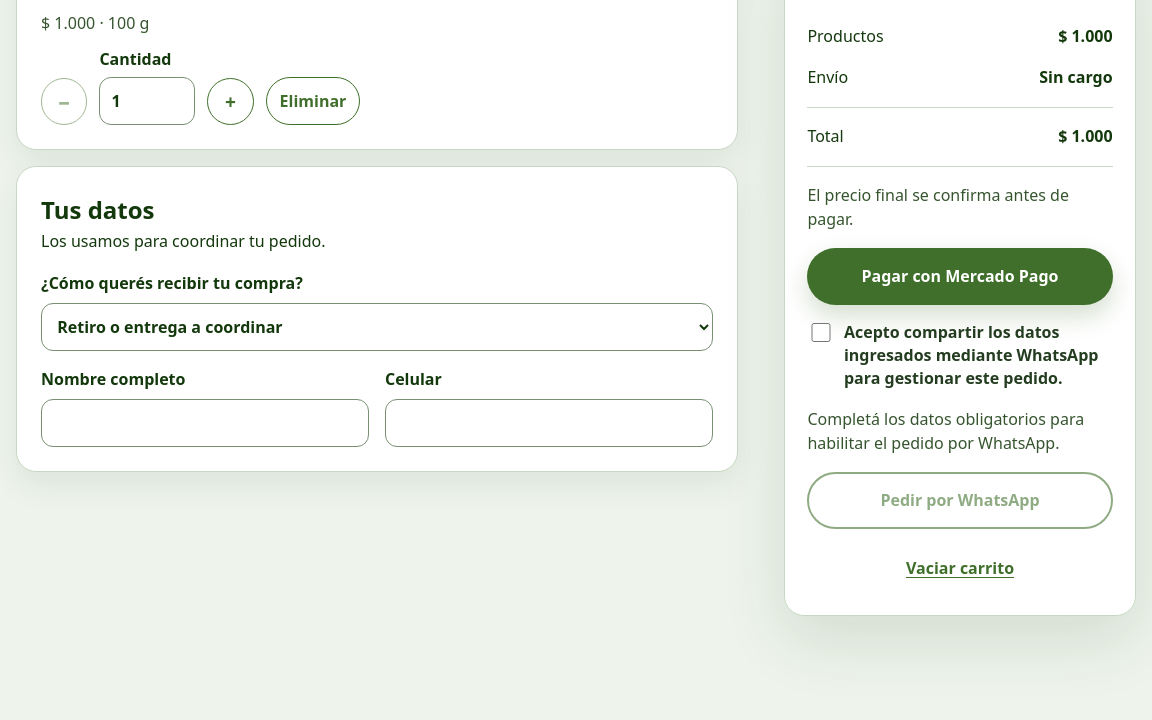
Test case: CartPage › no prepara un pago con una cantidad visible inválida ni usa silenciosamente la anterior
(page scrolled)
Type "Cliente de prueba" into the field labelled "Nombre completo" at {"x": 205, "y": 423}, box [41, 399, 369, 447]
Type "5491100000000" into the field labelled "Celular" at {"x": 549, "y": 423}, box [385, 399, 713, 447]
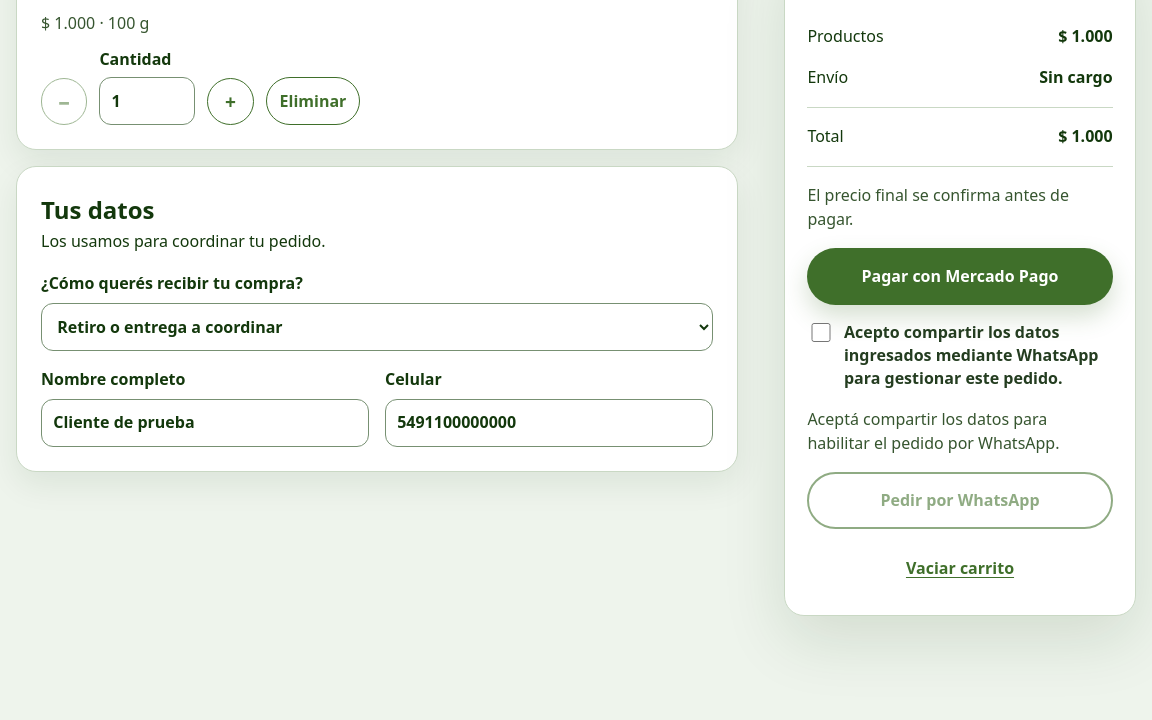
Click the checkbox labelled "Acepto compartir" at {"x": 821, "y": 332}, box [811, 323, 831, 342]
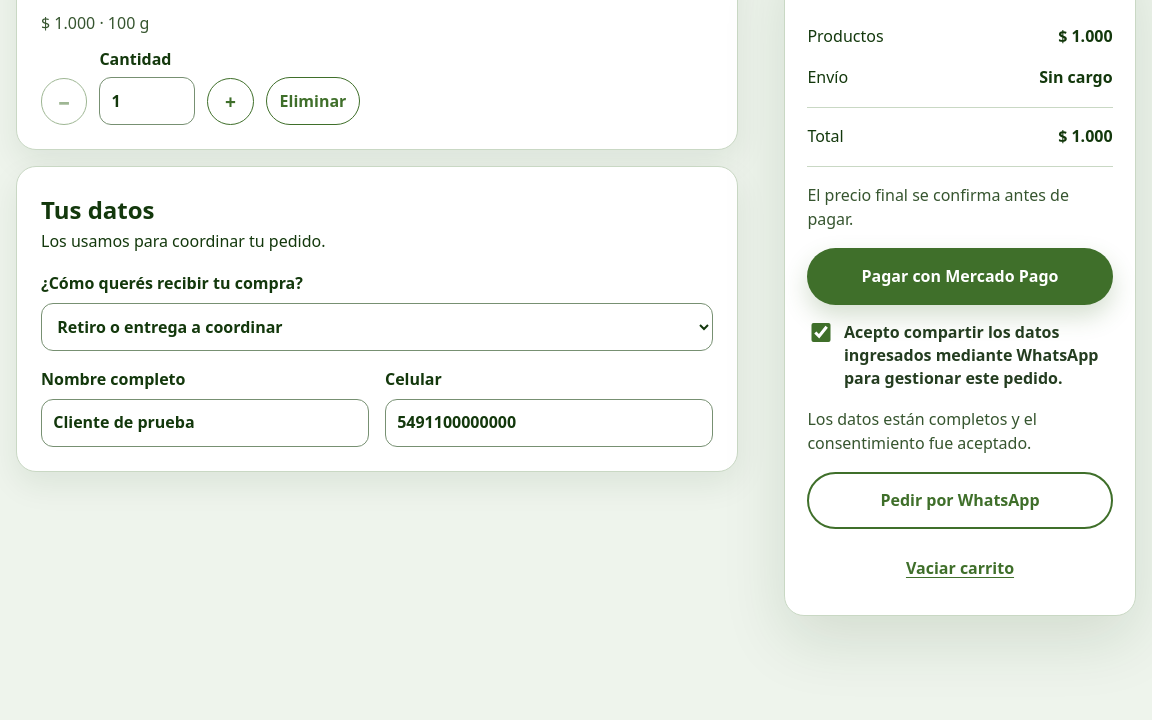
Replace the text in the number field labelled "Cantidad" with "0" at {"x": 147, "y": 101}, box [99, 77, 195, 125]
(page scrolled)
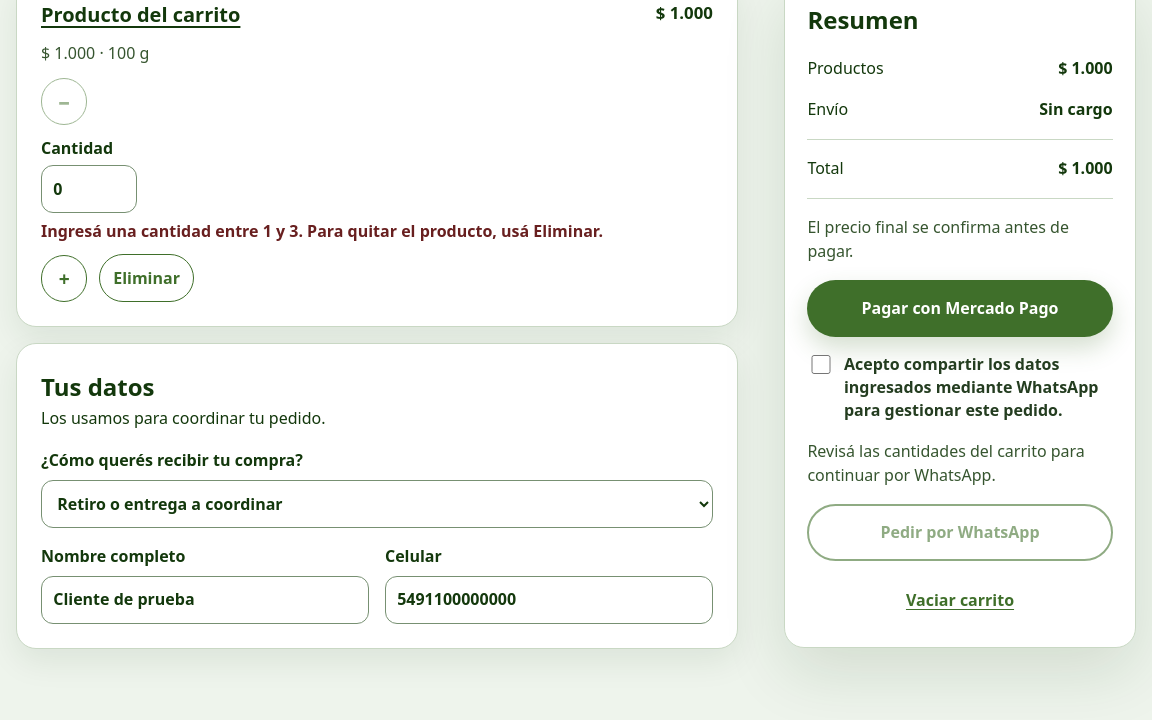
Click the button "Pagar con Mercado Pago" at {"x": 960, "y": 309}, box [807, 280, 1113, 337]
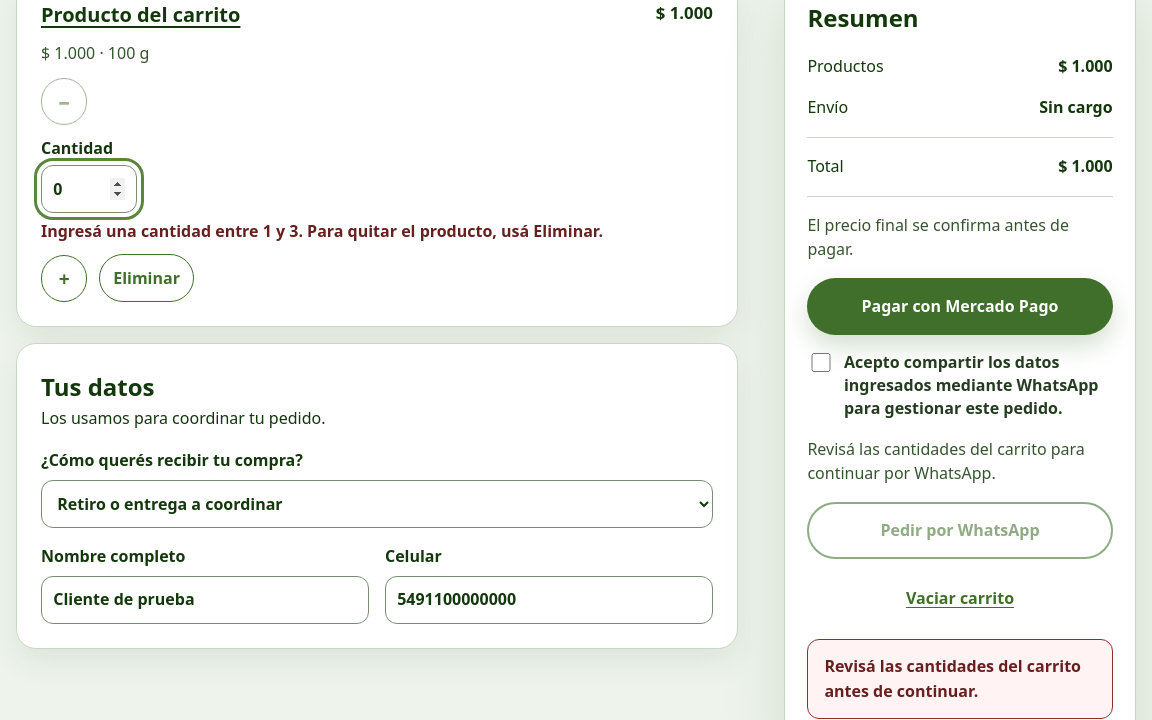
Result: the button "Pedir por WhatsApp" is disabled at [807, 502, 1113, 559]
Result: the text "Revisá las cantidades del carrito para continuar por WhatsApp." is shown at [807, 437, 1113, 486]
Result: the message shows "Revisá las cantidades del carrito" at [824, 654, 1081, 702]
Replace the text in the number field named "Cantidad de Producto del carrito" with "2" at {"x": 89, "y": 189}, box [41, 165, 137, 213]
(page scrolled)
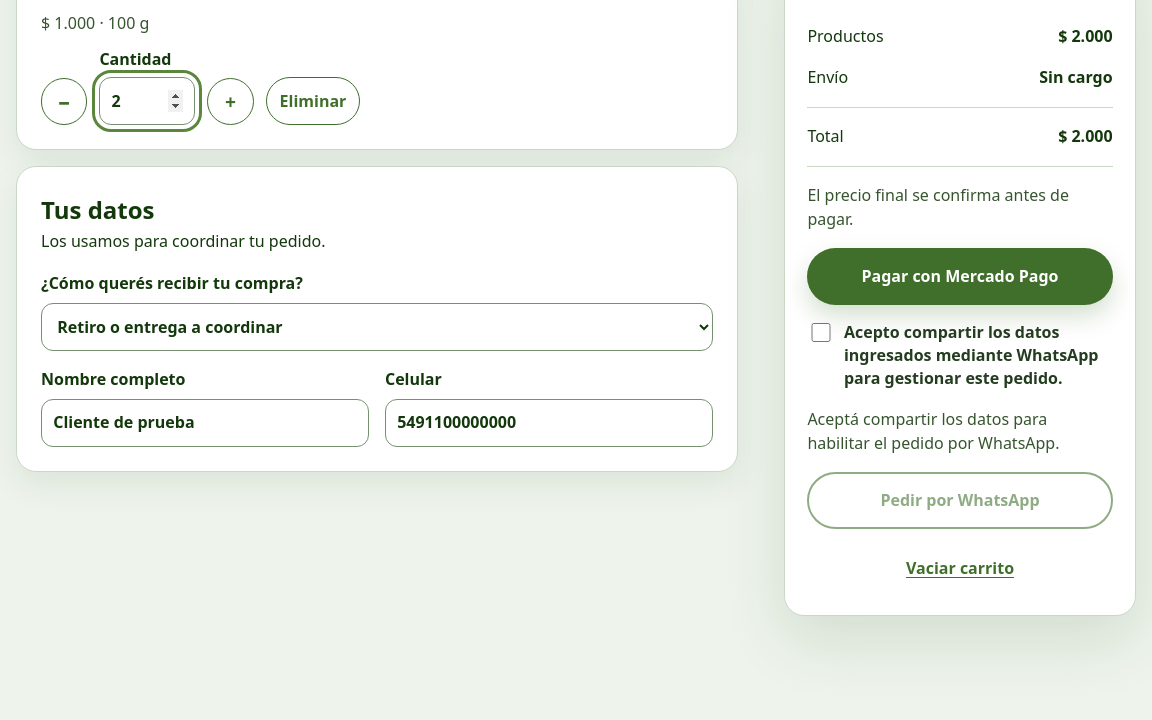
Click the checkbox labelled "Acepto compartir" at {"x": 821, "y": 332}, box [811, 323, 831, 342]
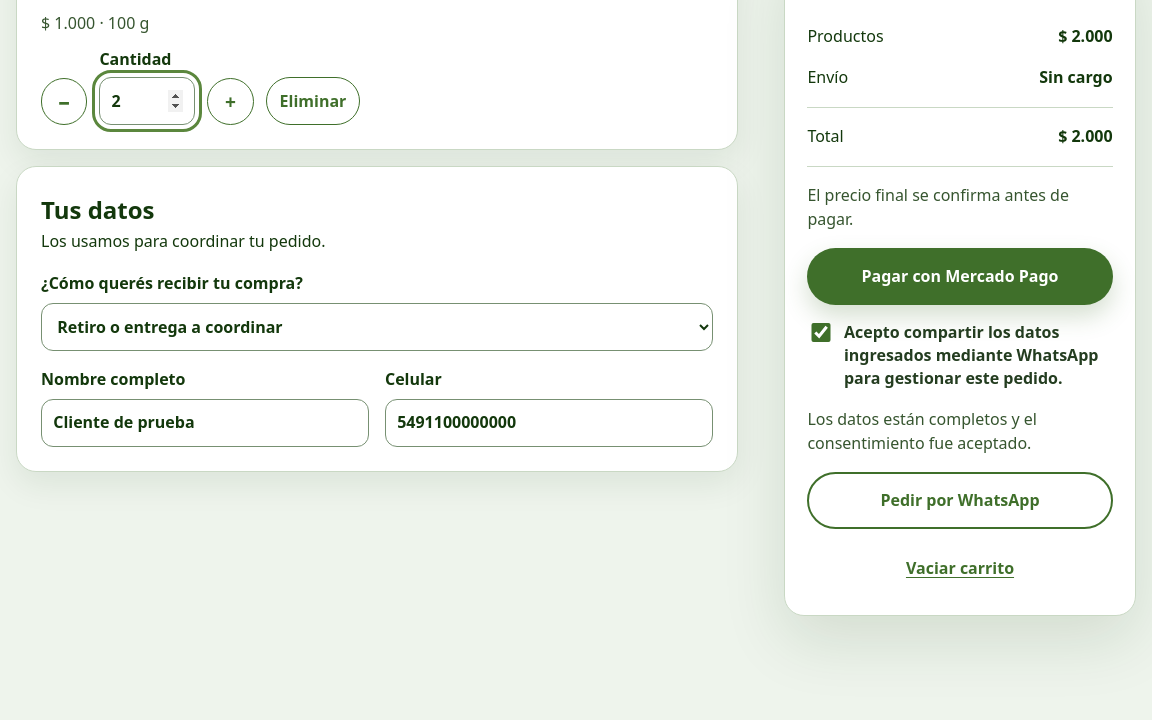
Expected: the message "Revisá las cantidades del carrito antes de continuar." is not shown
Result: the button "Pedir por WhatsApp" is enabled at [807, 472, 1113, 529]
